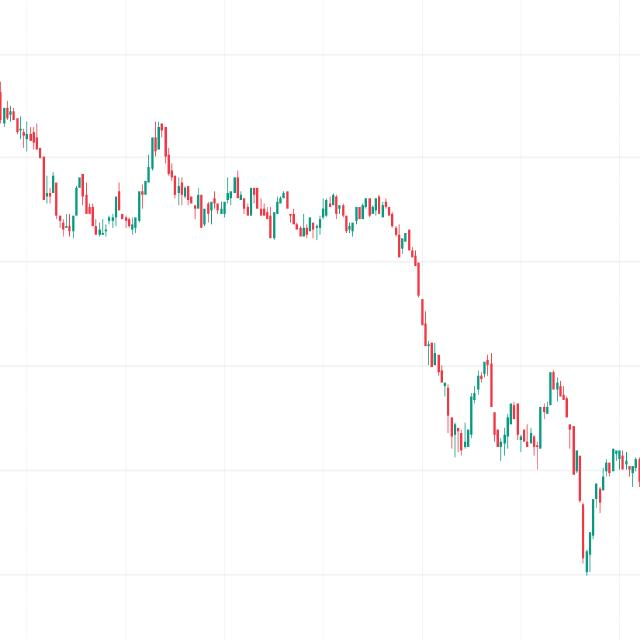Triple-Bottom: (44, 169, 156, 252)
